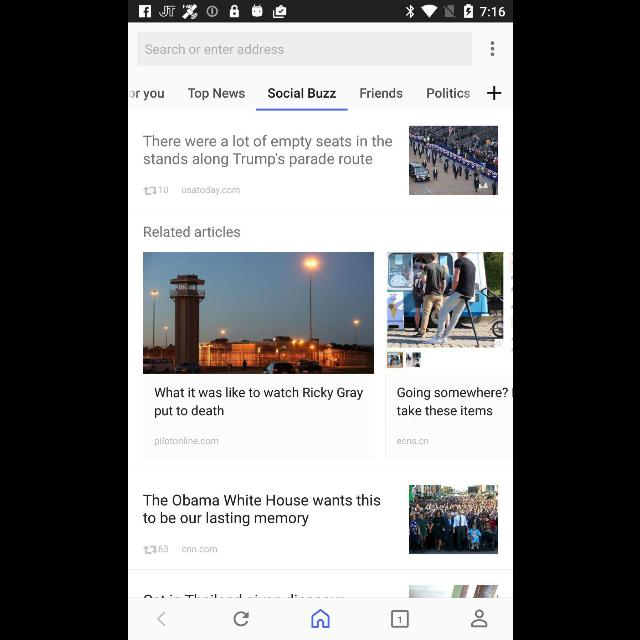icon: (311, 610, 329, 628), (471, 609, 487, 627), (232, 612, 248, 626), (487, 86, 501, 100), (143, 187, 157, 195), (143, 546, 157, 554), (156, 612, 164, 626), (490, 41, 494, 57)
image: (142, 252, 374, 374), (387, 253, 503, 373), (408, 127, 498, 196), (408, 486, 498, 554), (408, 585, 498, 597), (390, 610, 408, 628)
input: (137, 32, 471, 66)
text: (142, 136, 392, 168), (142, 494, 380, 526), (154, 387, 362, 419), (396, 388, 508, 417), (145, 44, 283, 54), (144, 226, 240, 238), (186, 89, 244, 101), (267, 88, 335, 98), (154, 437, 218, 447), (181, 187, 239, 196), (426, 88, 469, 98), (360, 88, 402, 98), (127, 91, 163, 101), (182, 547, 216, 553), (396, 439, 428, 445), (158, 186, 168, 194), (157, 546, 167, 552)
uppertaskbar: (128, 1, 512, 23)
